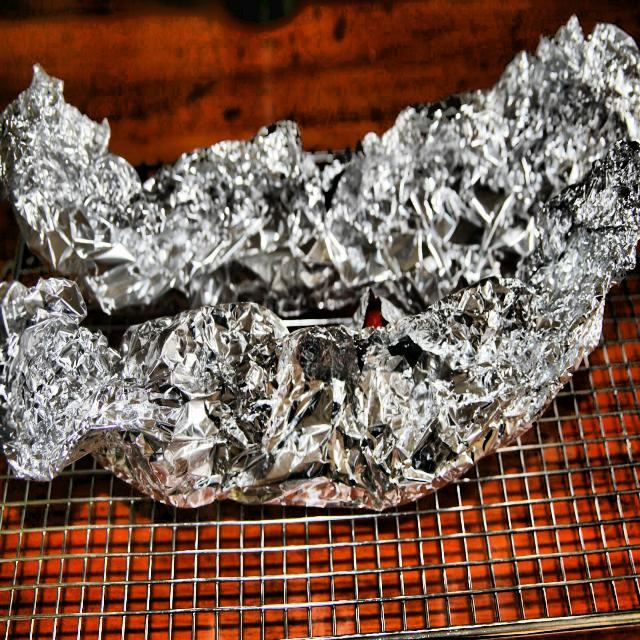Foil: (0, 9, 634, 518)
